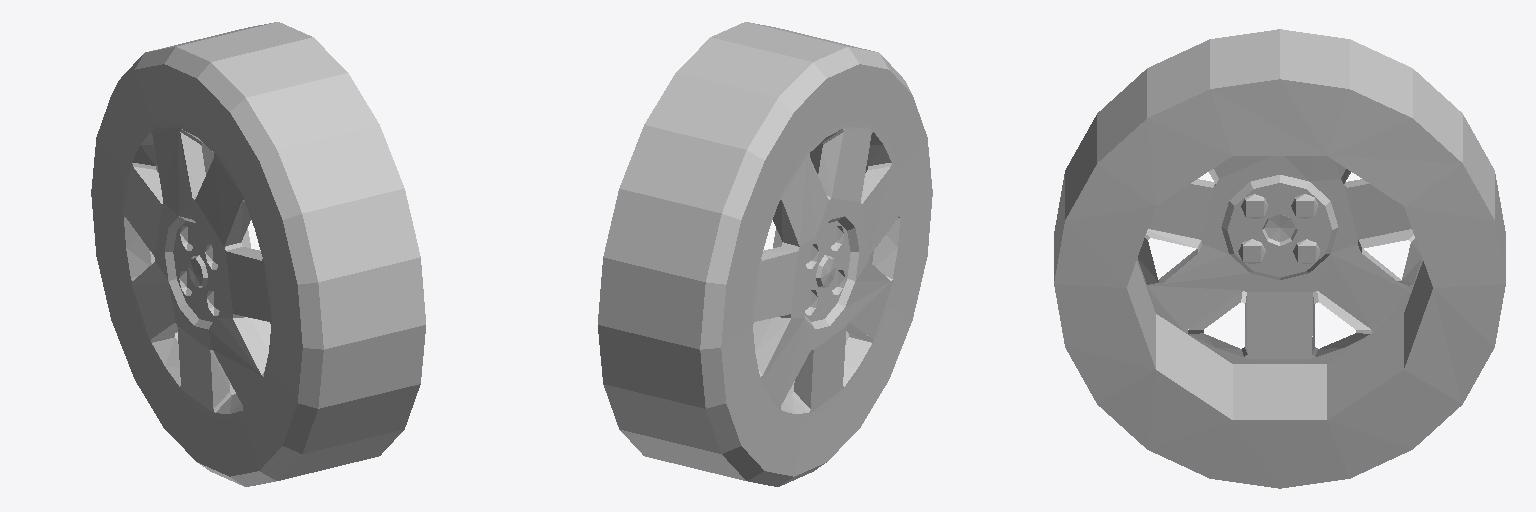
Rendered from rightfronttire.obj.
3 renders of one model, left to right at view 1: azimuth 30°, elevation 25°; view 2: azimuth 150°, elevation 25°; view 3: azimuth 270°, elevation 25°, orthographic.
Parts seen in each view (by area): view 1: wheel3; view 2: wheel3; view 3: wheel3.
Boxes of the visible parts, <box> form: wheel3: <box>91,22,425,486</box>; wheel3: <box>598,22,932,486</box>; wheel3: <box>1054,29,1505,488</box>.
Size of the model in its own units: 0.194 by 0.6109 by 0.6109.